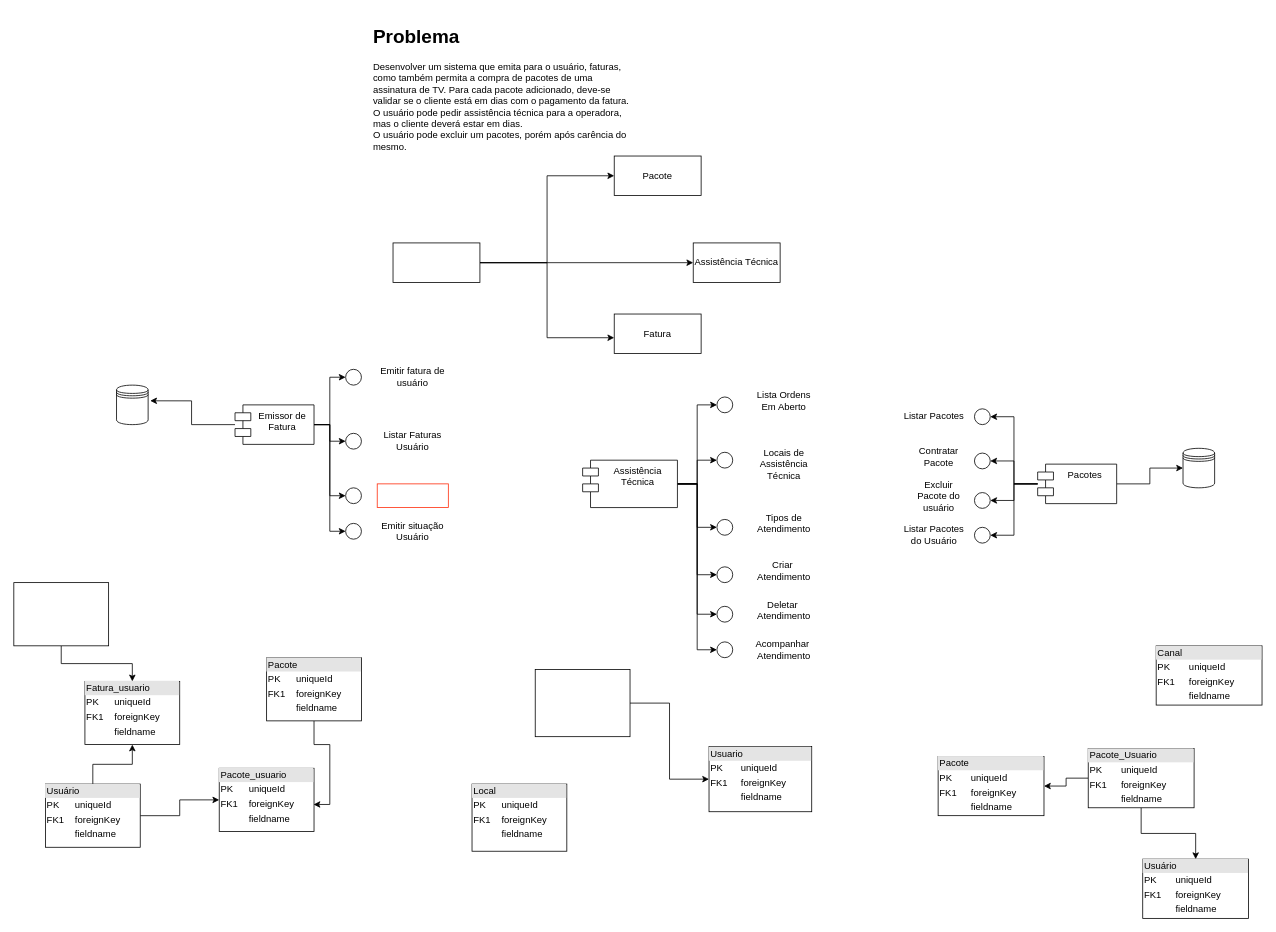
Some shapes in this 1276 by 932 pixel diagram are drawn without their labels. The shapes that lost their labels are listed below. From the top down, each one's centre as x and y in pixels, then its label:
At point 436,262: "Usuário".
At point 412,495: "Lista de pacotes do usuário".
At point 61,614: "Fatura PK uniqueId FK1 foreignKey fieldname".
At point 582,703: "Atendimento PK uniqueId FK1 foreignKey fieldname".
